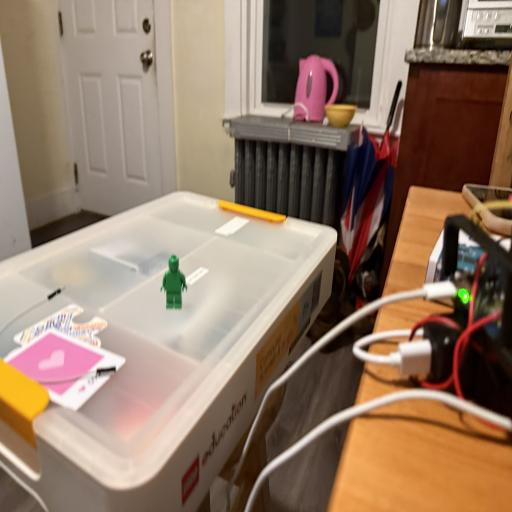Minifig: (161, 255, 188, 309)
